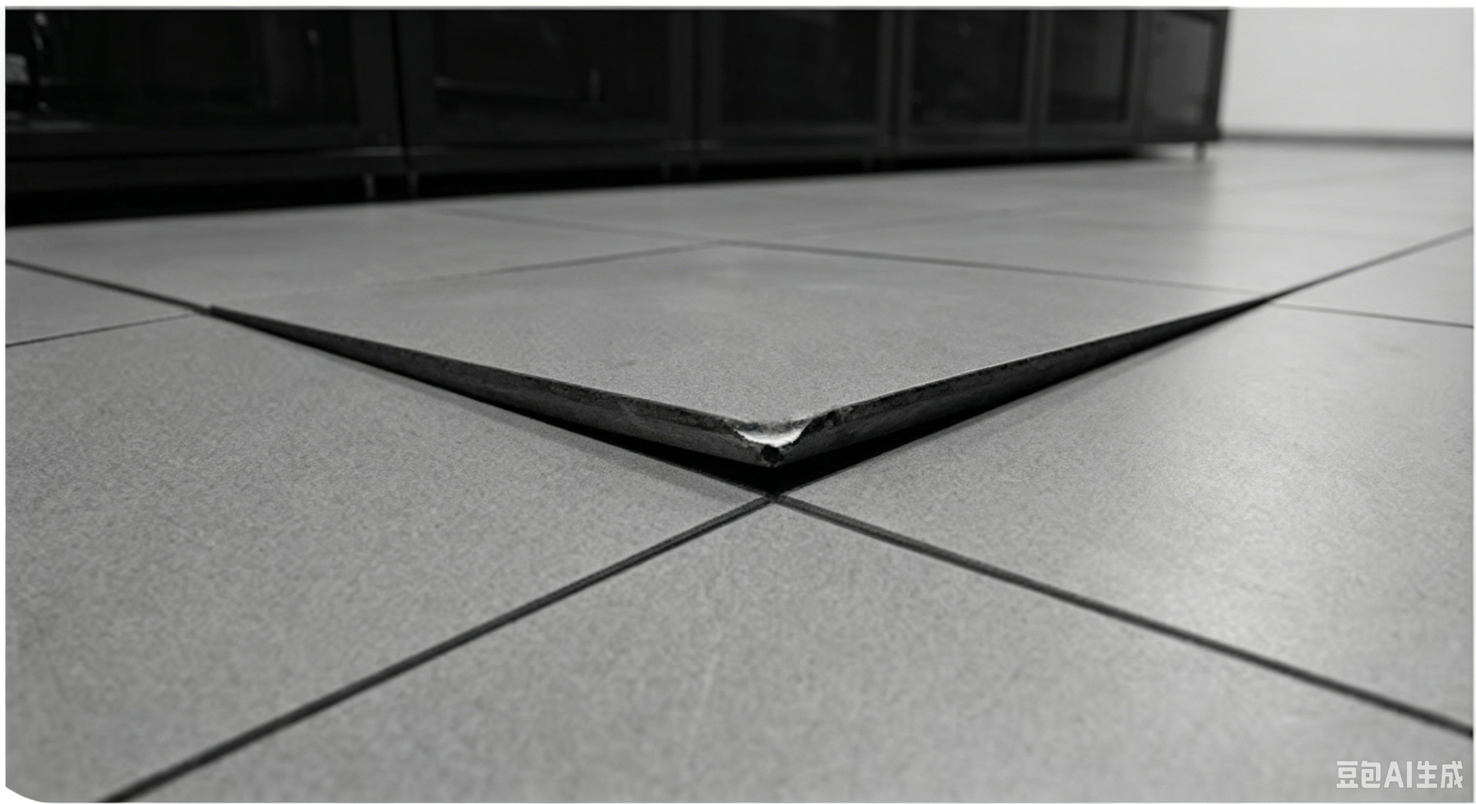floor_defect: (230, 296, 787, 510), (755, 366, 1085, 488), (1006, 297, 1231, 366)
